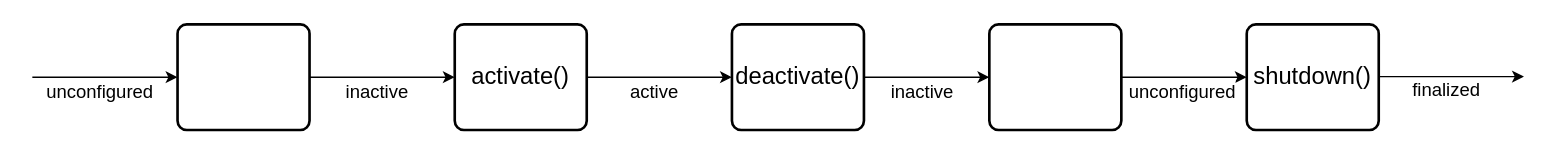
Image size: 1558x153. Some labels were removed from this diagram. The centre of each missing label's shape, as x and y in pixels:
"cleanup()" goes at pixel 1054 76.
"configure()" goes at pixel 243 76.
